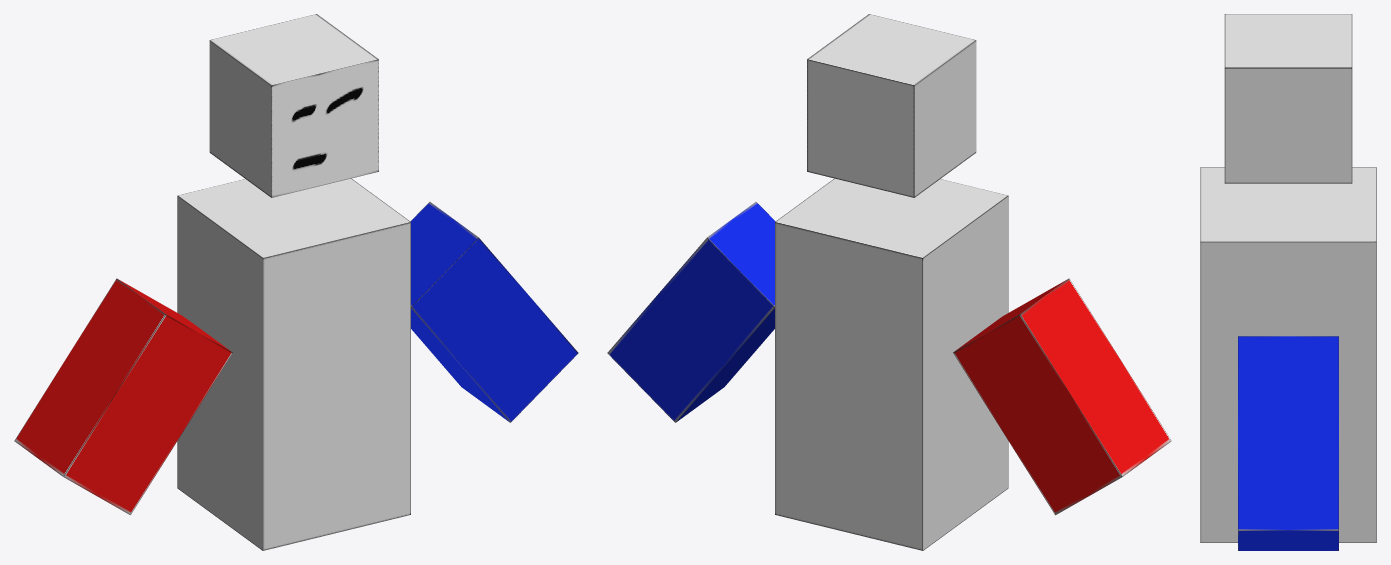
The model's file is AL3player.obj.
3 renders of one model, left to right at view 1: azimuth 30°, elevation 25°; view 2: azimuth 150°, elevation 25°; view 3: azimuth 270°, elevation 25°, orthographic. The views are drawn at different scales.
Parts seen in each view (by area): view 1: 立方体.001; view 2: 立方体.001; view 3: 立方体.001.
Part boxes in pixels (x1=…): 立方体.001: x1=14, y1=14, x2=578, y2=550; 立方体.001: x1=607, y1=14, x2=1171, y2=550; 立方体.001: x1=1200, y1=14, x2=1376, y2=550.
Bounding box in the file's own units: 6.96 × 5.83 × 2.
